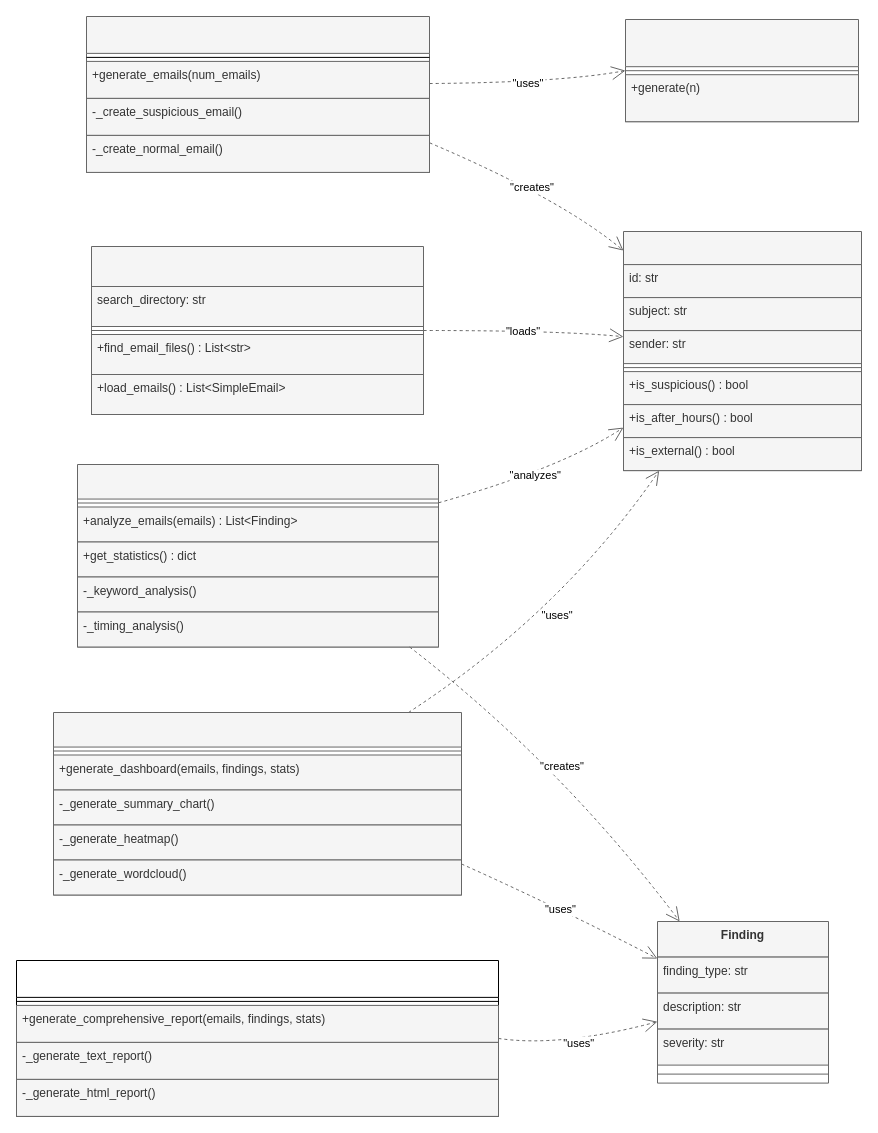
Some shapes in this 878 by 1133 pixel diagram are drawn without their labels. Here are the shapes that lost their labels. From the top down, the box of each, then its label:
(624, 18, 858, 122): SuspiciousSubjectGenerator
(86, 16, 430, 172): EnhancedEmailGenerator
(90, 246, 424, 414): DiscoveryAgent
(622, 230, 862, 471): SimpleEmail
(76, 464, 438, 647): AnalysisAgent
(52, 712, 462, 895): DashboardAgent
(16, 960, 498, 1116): ReportAgent
